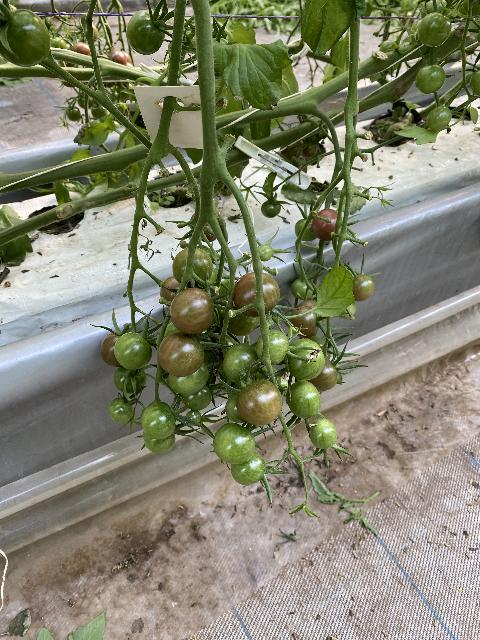l_fully_ripened: (311, 208, 343, 241)
l_green: (0, 9, 51, 67), (213, 422, 256, 464), (126, 10, 166, 55), (172, 248, 213, 287), (286, 339, 325, 380), (223, 344, 261, 384), (114, 332, 152, 370), (222, 298, 260, 336), (285, 380, 322, 419), (168, 362, 208, 396), (141, 402, 176, 439), (256, 329, 289, 365), (419, 12, 452, 47), (231, 452, 266, 485), (309, 417, 338, 449), (114, 366, 147, 394), (415, 64, 445, 94), (182, 384, 212, 411), (143, 432, 175, 454), (108, 397, 133, 424), (225, 393, 247, 423), (427, 106, 452, 131), (295, 218, 318, 241), (291, 278, 313, 300), (261, 200, 281, 219), (337, 301, 356, 319), (470, 69, 480, 98), (185, 410, 202, 426), (258, 245, 273, 262)
l_half_ripened: (236, 378, 283, 426), (233, 272, 280, 317), (170, 288, 215, 334), (158, 332, 204, 377), (304, 355, 338, 392), (289, 305, 319, 338), (100, 332, 126, 367), (160, 276, 187, 308), (353, 275, 375, 302)
